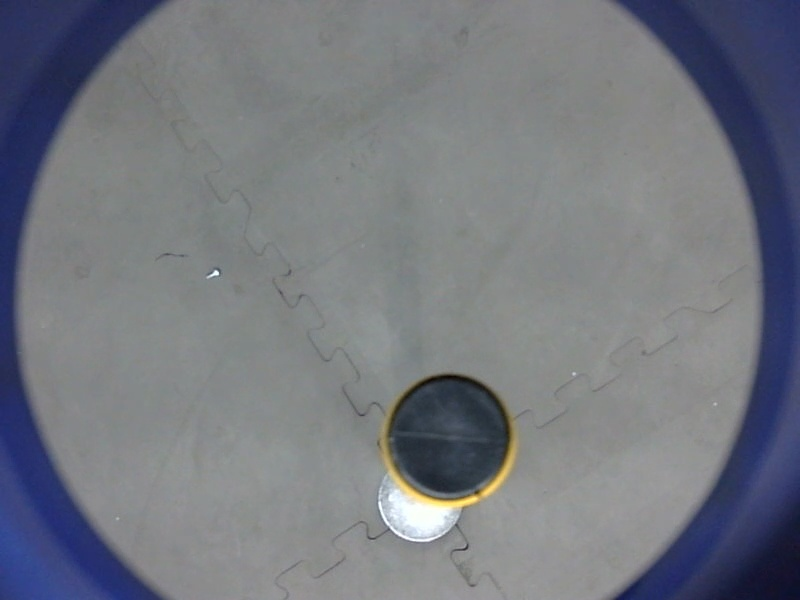tip: (375, 368, 523, 514)
